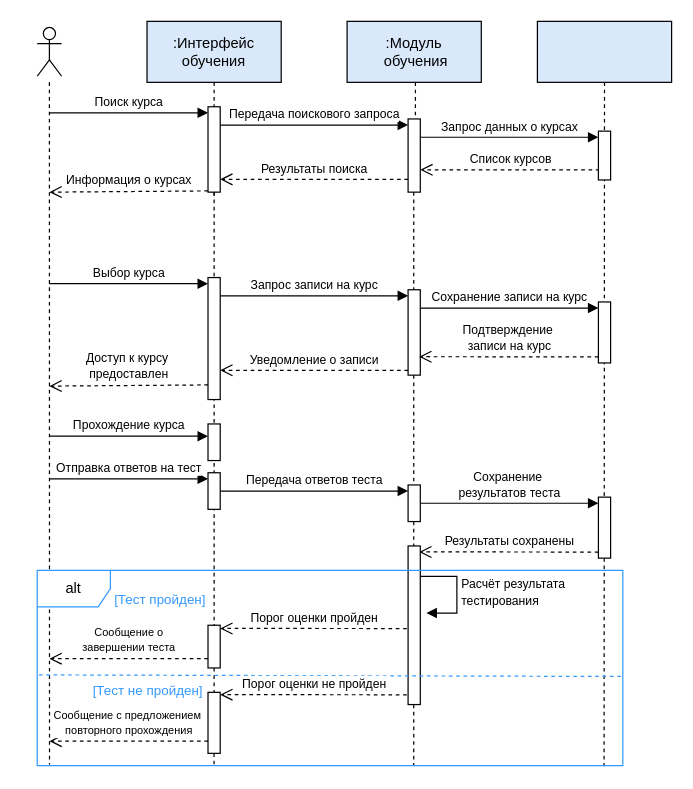
This 693x789 diagram has some shape labels left out. Here are the shapes that lost their labels. From the top down, the centre of each, then its label:
At (49,51): "Студент".
At (604,51): ":База данных".
